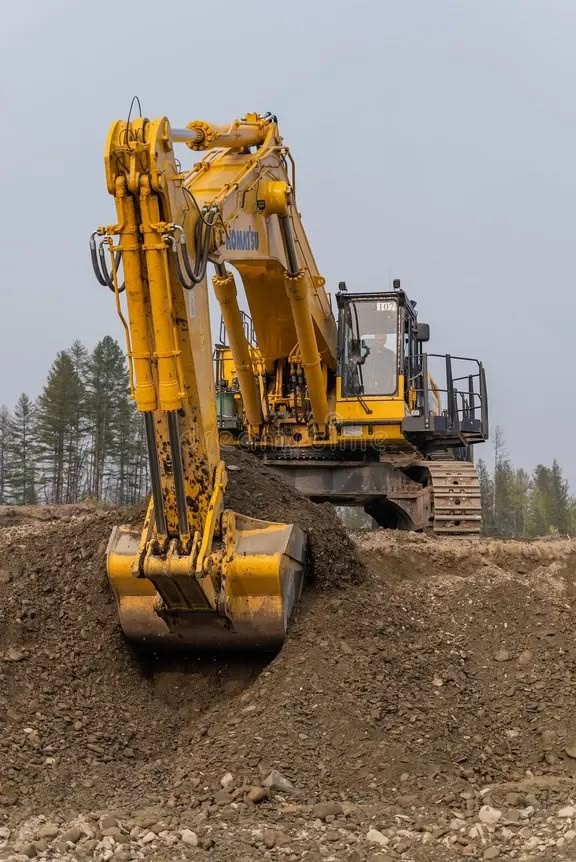excavator: (78, 74, 520, 657)
